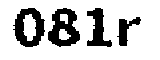0: (10, 4, 46, 49)
1: (82, 6, 116, 56)
8: (48, 3, 82, 49)
r: (118, 14, 146, 51)
